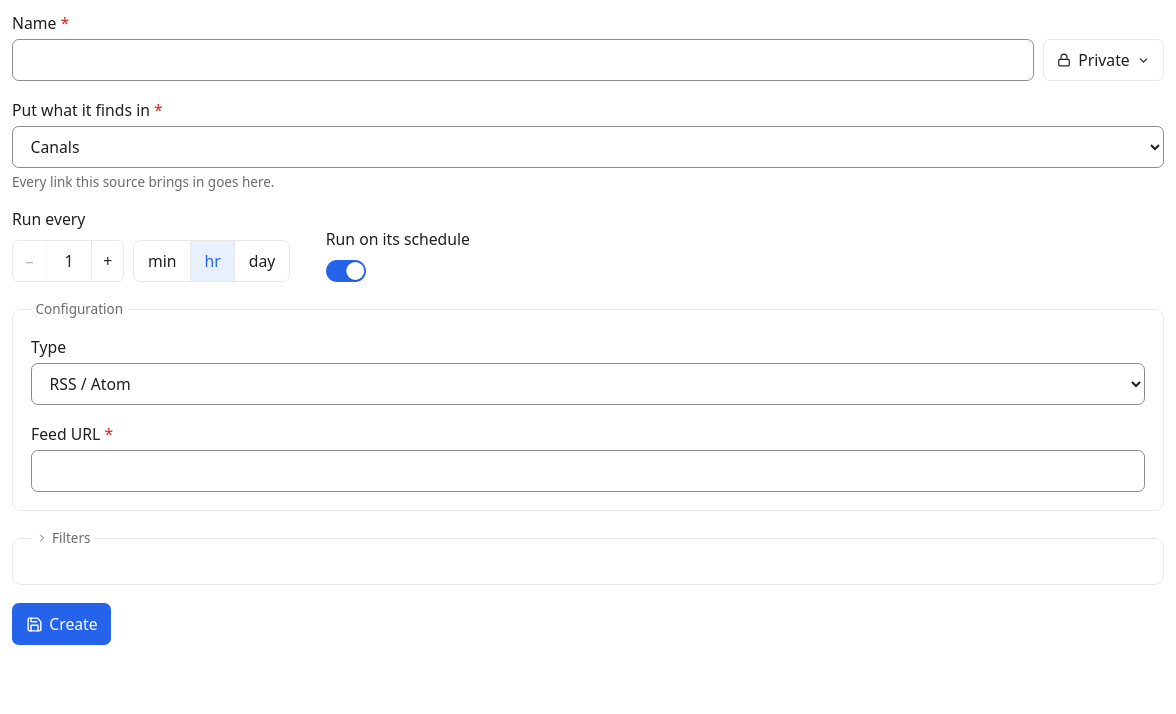
Test: SourceForm — the preview › says so when previews are being rate-limited
Step 1. Type "https://example.org/feed.xml" into the field labelled "Feed URL" → x=588, y=472, box x1=31 y1=450 x2=1145 y2=492
Wait 1600 ms
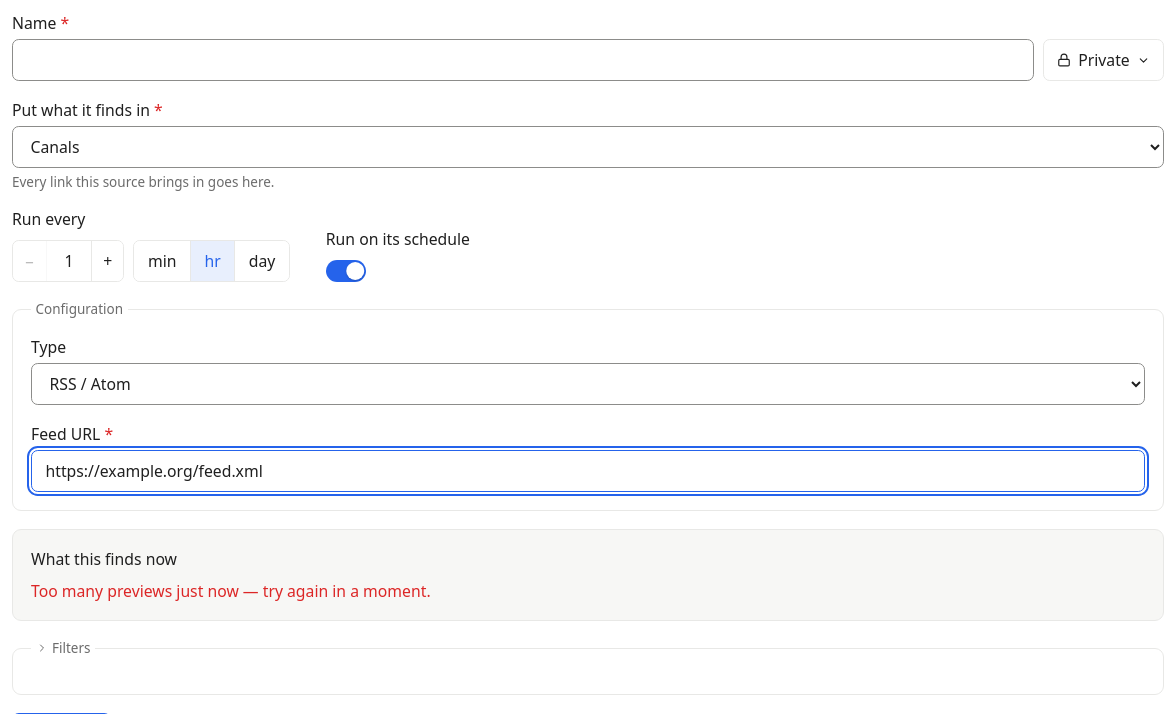
Expected: the message shows "Too many previews just now", x1=31 y1=580 x2=431 y2=602
